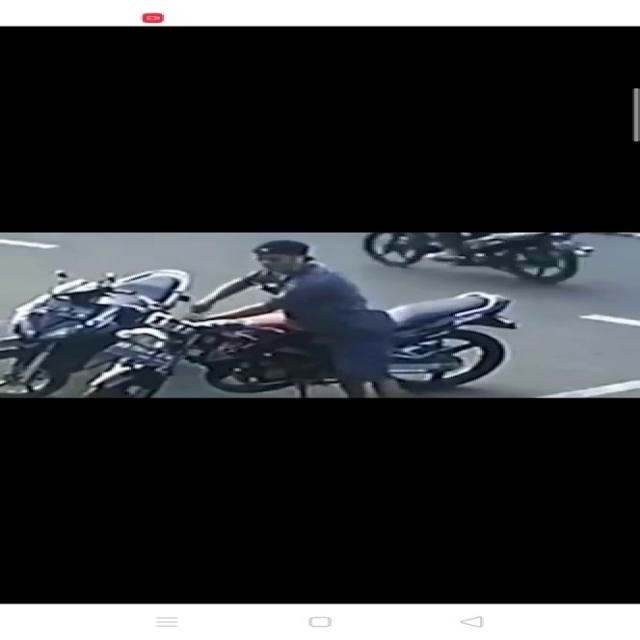pencurian: (91, 238, 418, 396)
